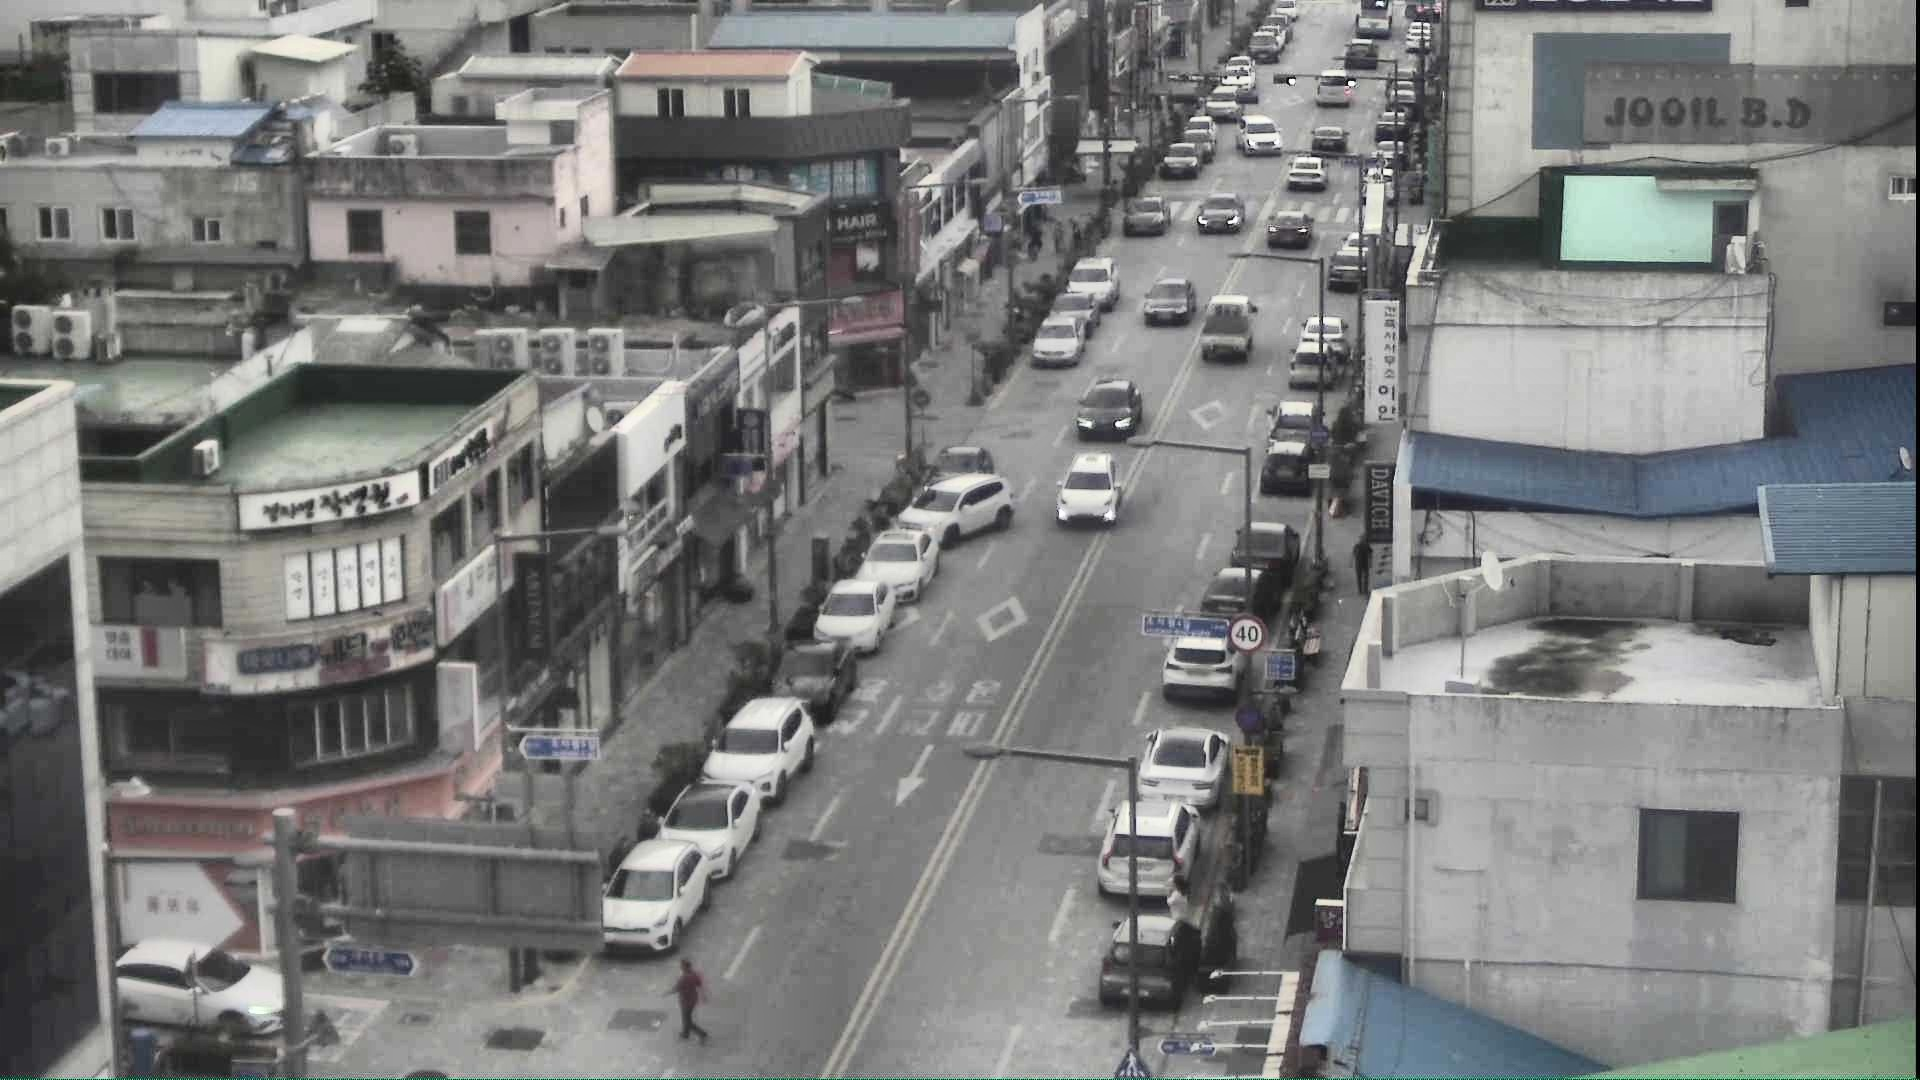jaywalk: (666, 957, 716, 1043), (1167, 876, 1196, 957)
sidewalk: (1350, 531, 1377, 600), (1026, 220, 1043, 258), (1069, 224, 1087, 257), (1052, 220, 1065, 249)
